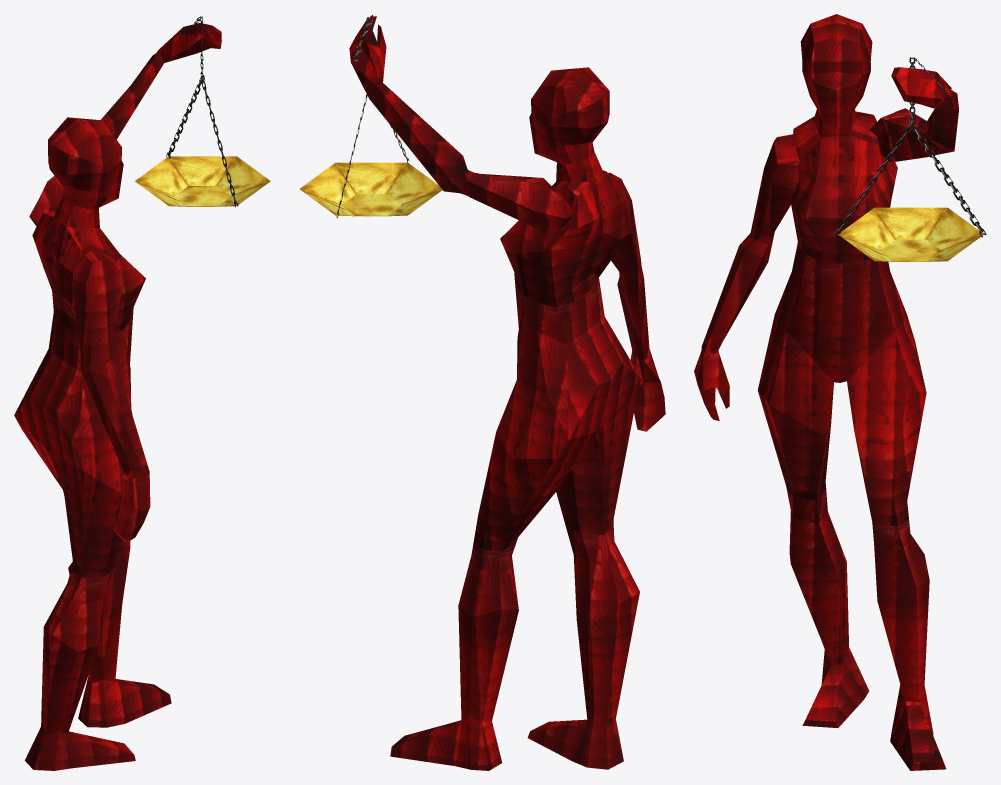
The model's file is Estatua.glb.
3 renders of one model, left to right at view 1: azimuth 30°, elevation 25°; view 2: azimuth 150°, elevation 25°; view 3: azimuth 270°, elevation 25°, orthographic. The views are drawn at different scales.
Parts seen in each view (by area): view 1: Estatua; view 2: Estatua; view 3: Estatua.
Part boxes in pixels (x1,y1,x2,y2): Estatua: [14, 16, 270, 770]; Estatua: [299, 15, 665, 770]; Estatua: [694, 14, 986, 770].
Bounding box in the file's own units: 0.6312 × 1.61 × 0.5847.
Materials: 3 (3 with a texture image).
